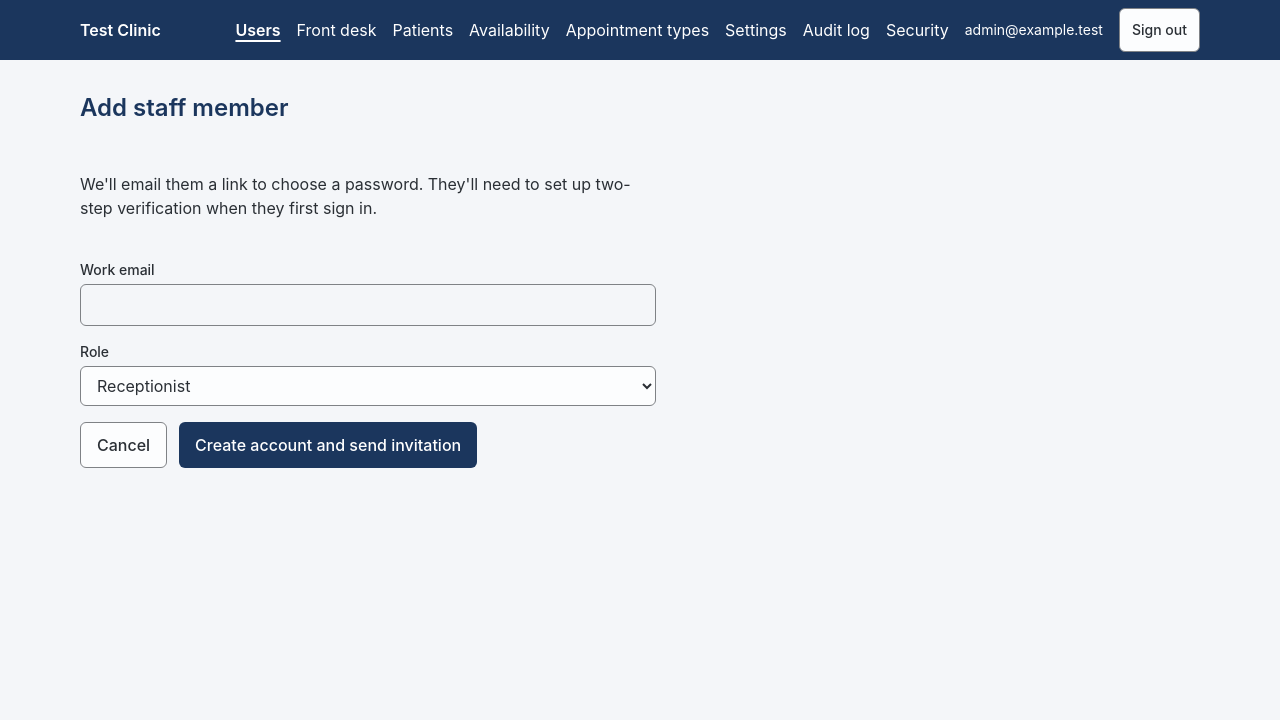
Test: users › shows a duplicate-email error from the server
Type "dup@example.test" into the field labelled "Work email". click: (368, 305)
box: [80, 284, 656, 326]
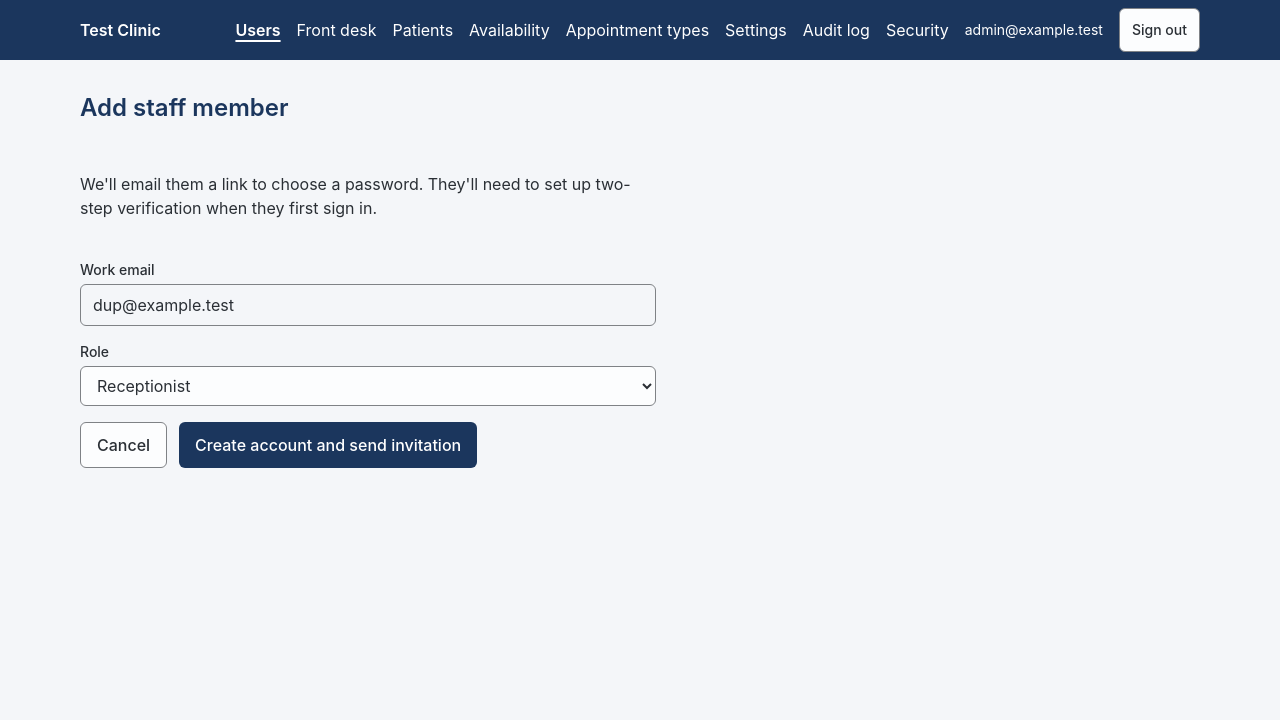
Click the button "Create account and send invitation". click: (328, 445)
box: [179, 422, 477, 468]
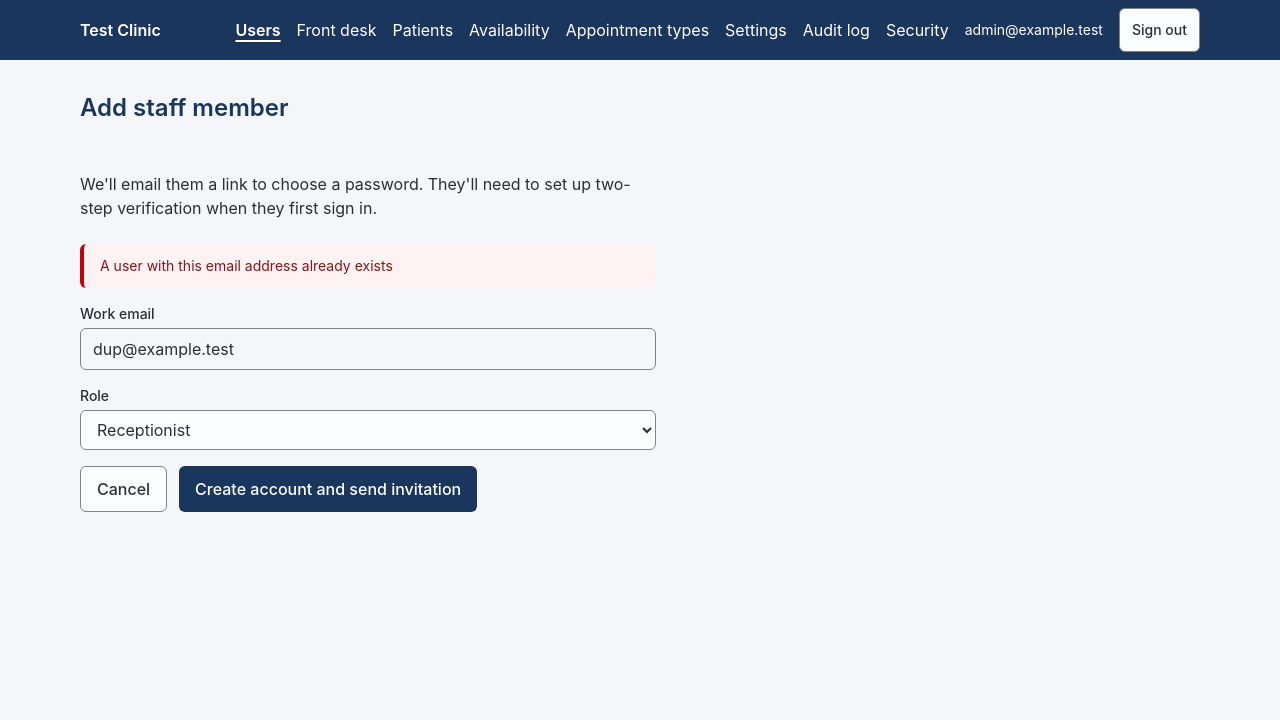
Expected: the message shows "already exists", [100, 257, 393, 274]
